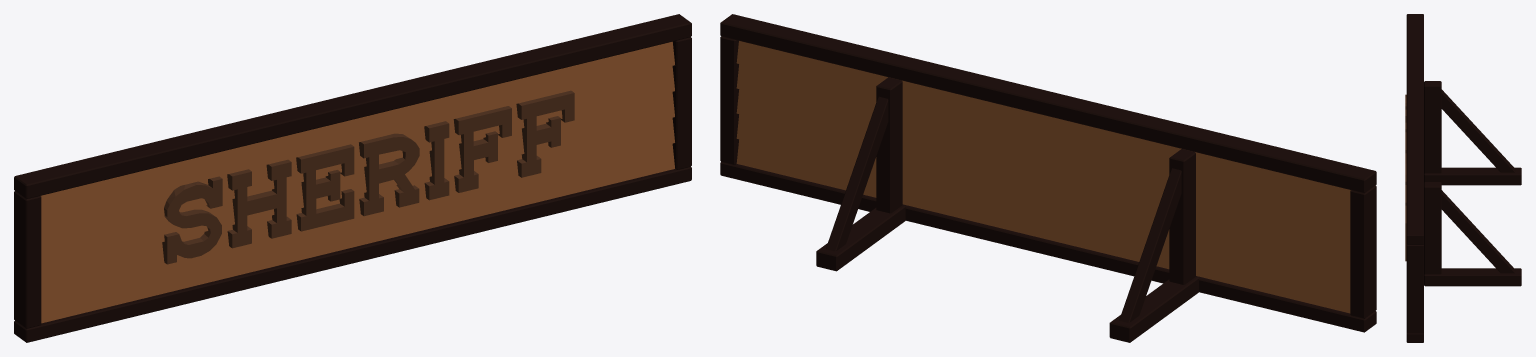
File: ww_sheriff_sign_a.glb
3 views of the same model, side by side, from view 1: azimuth 30°, elevation 25°; view 2: azimuth 150°, elevation 25°; view 3: azimuth 270°, elevation 25° (orthographic). The views are drawn at different scales.
Visible parts, largest first — view 1: Sheriff_Sign_A; view 2: Sheriff_Sign_A; view 3: Sheriff_Sign_A.
Boxes of the visible parts, x1=… form: Sheriff_Sign_A: x1=14, y1=14, x2=691, y2=342; Sheriff_Sign_A: x1=720, y1=14, x2=1376, y2=342; Sheriff_Sign_A: x1=1405, y1=14, x2=1521, y2=342.
Size of the model in its own units: 10.56 by 2.4 by 2.34.
